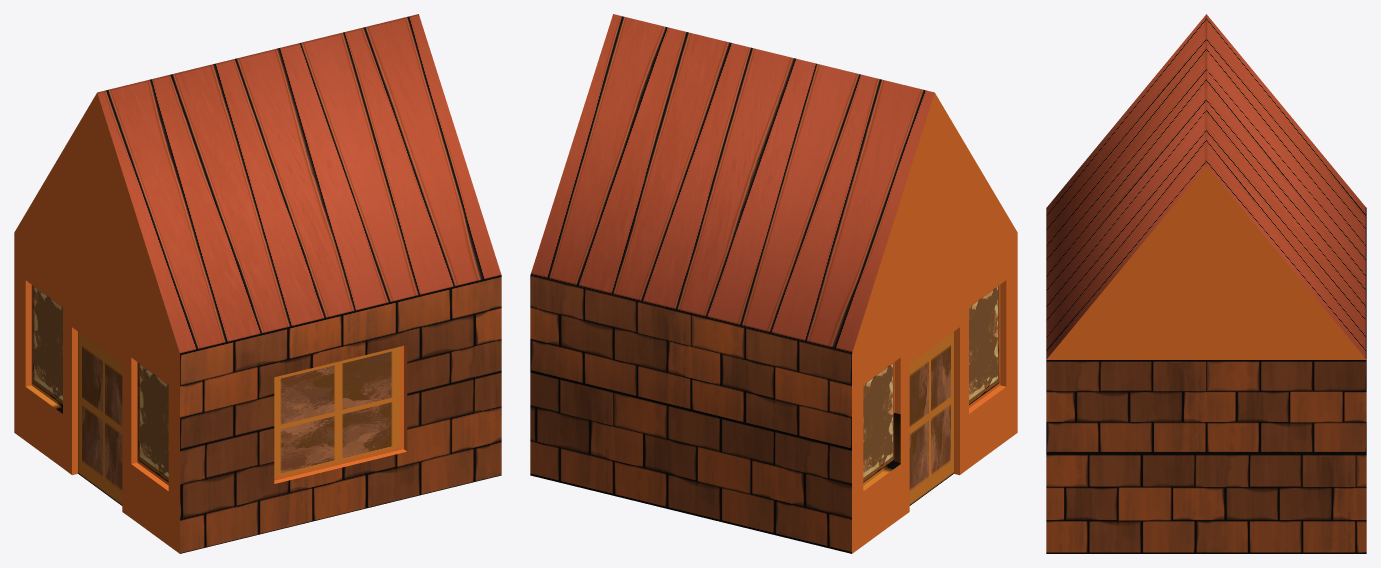
File: Depaul_Building_3.fbx
3 views of the same model, side by side, from view 1: azimuth 30°, elevation 25°; view 2: azimuth 150°, elevation 25°; view 3: azimuth 270°, elevation 25° (orthographic). The views are drawn at different scales.
Visible parts, largest first — view 1: House 2; view 2: House 2; view 3: House 2.
Boxes of the visible parts, left/top/right/bottom form: House 2: left=14, top=14, right=501, bottom=553; House 2: left=530, top=14, right=1017, bottom=553; House 2: left=1046, top=14, right=1366, bottom=553.
Bounding box in the file's own units: 199 × 237 × 177.
